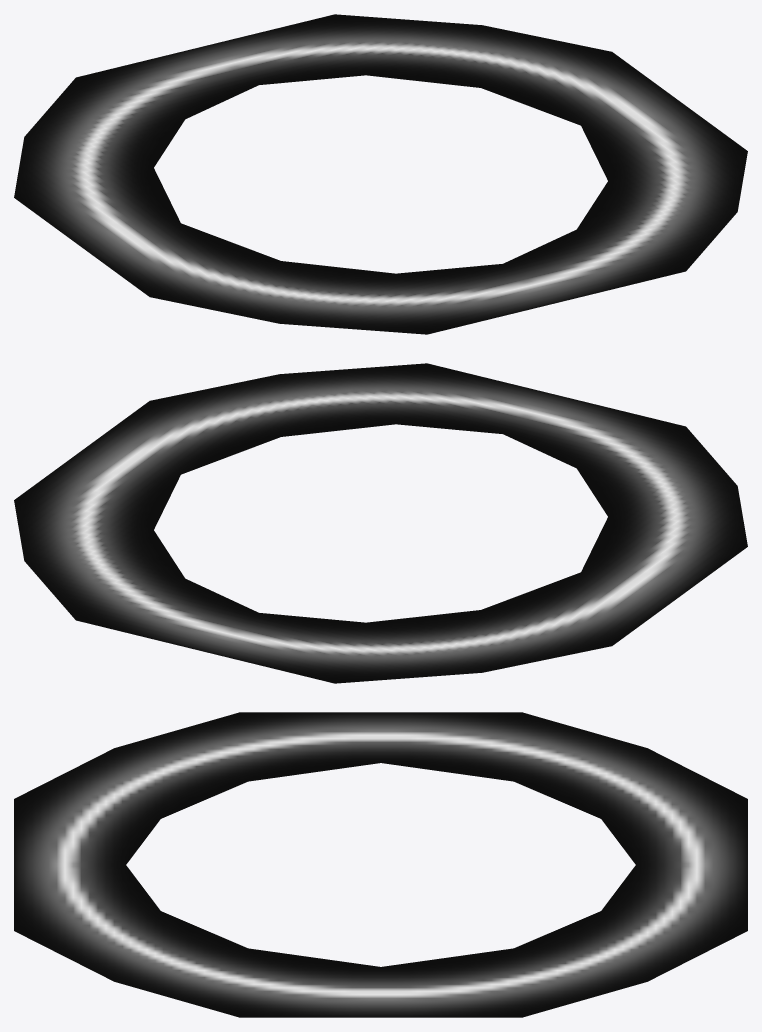
File: post_right 1.fbx
3 renders of one model, top to bottom at view 1: azimuth 30°, elevation 25°; view 2: azimuth 150°, elevation 25°; view 3: azimuth 270°, elevation 25°, orthographic. The views are drawn at different scales.
Parts seen in each view (by area): view 1: Post_right; view 2: Post_right; view 3: Post_right.
Boxes of the visible parts, x1=… form: Post_right: x1=14, y1=14, x2=747, y2=334; Post_right: x1=14, y1=363, x2=747, y2=683; Post_right: x1=14, y1=712, x2=747, y2=1017.
Bounding box in the file's own units: 385 × 4.2e-05 × 392.
